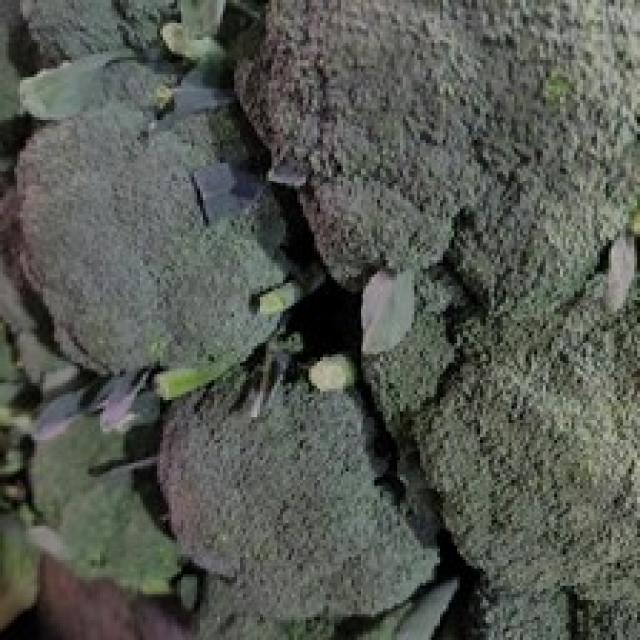Broccoli: (159, 356, 439, 621), (20, 101, 290, 372), (20, 104, 290, 372), (159, 370, 438, 621)
